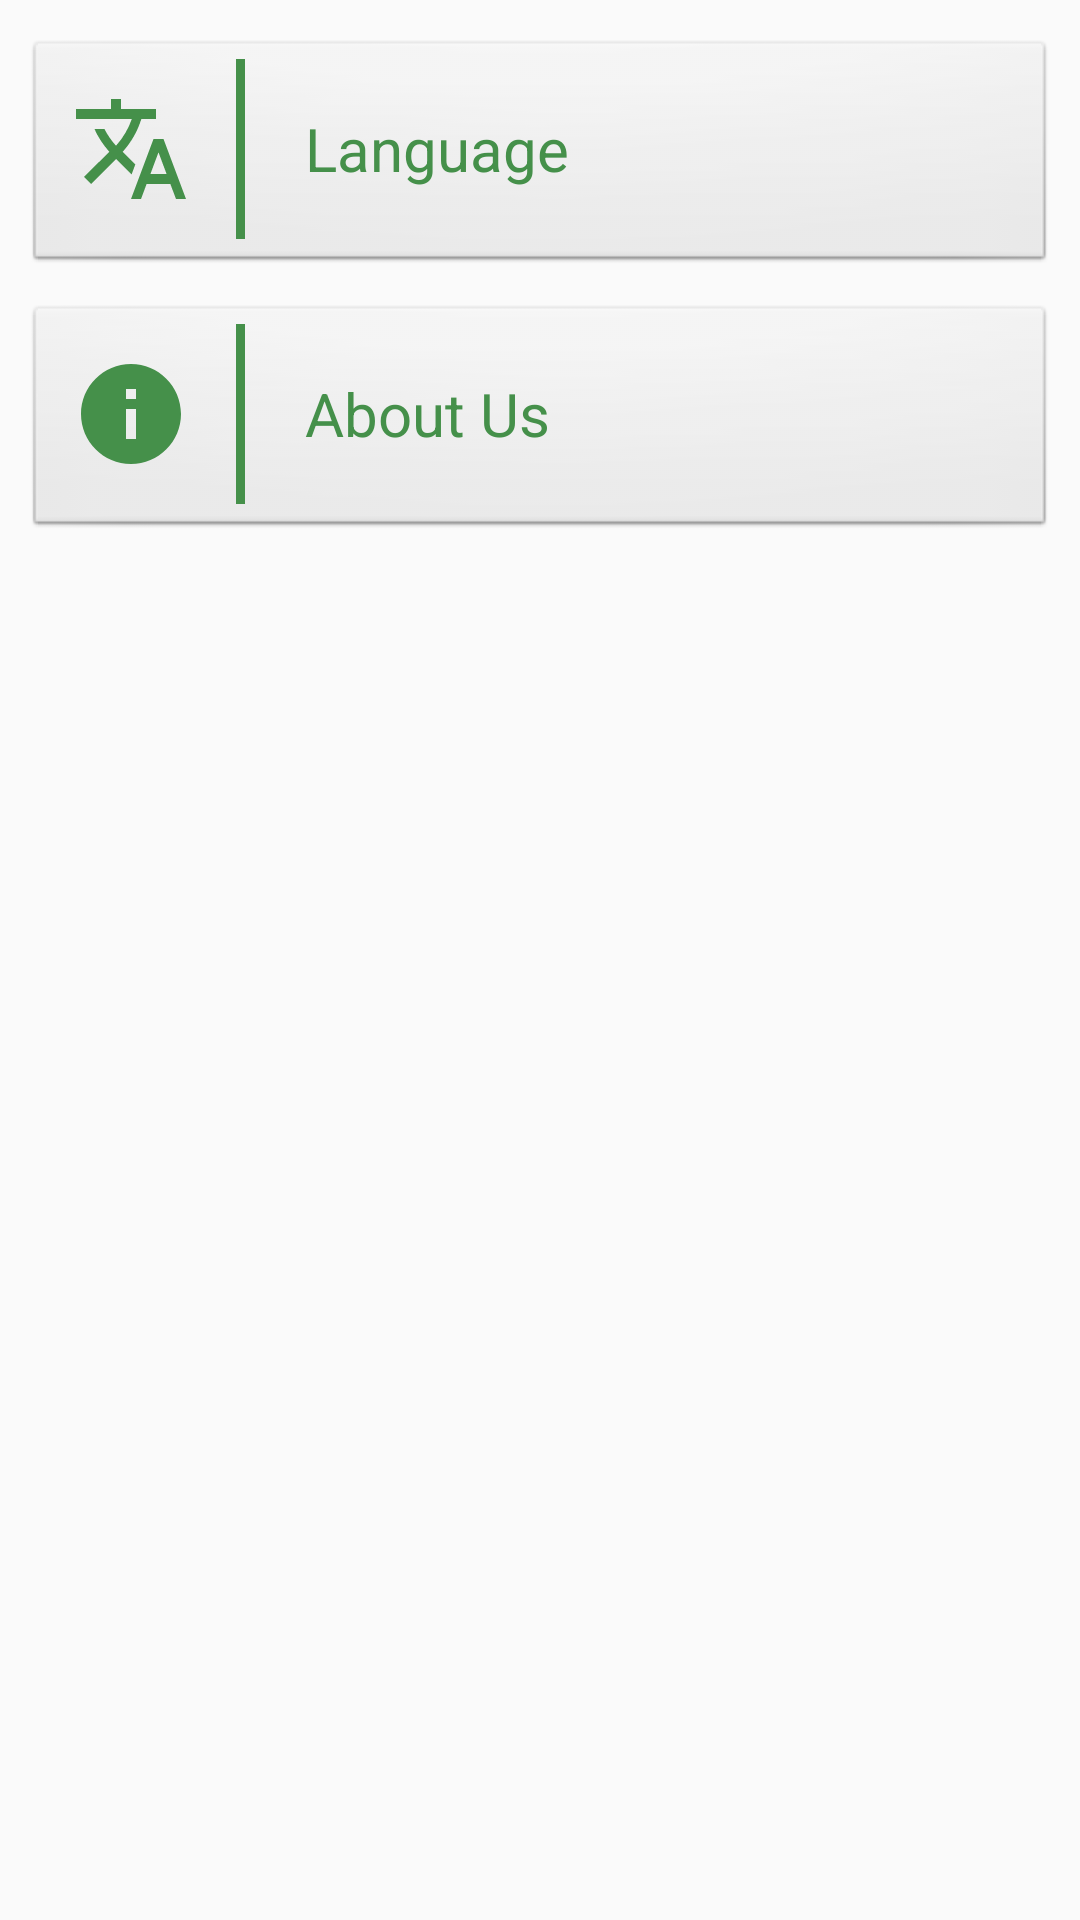

Point at icon controls on the screen. Image size 1080 × 1920, points as (x=x, y=y).
info: (x=131, y=414)
translate: (x=131, y=149)
